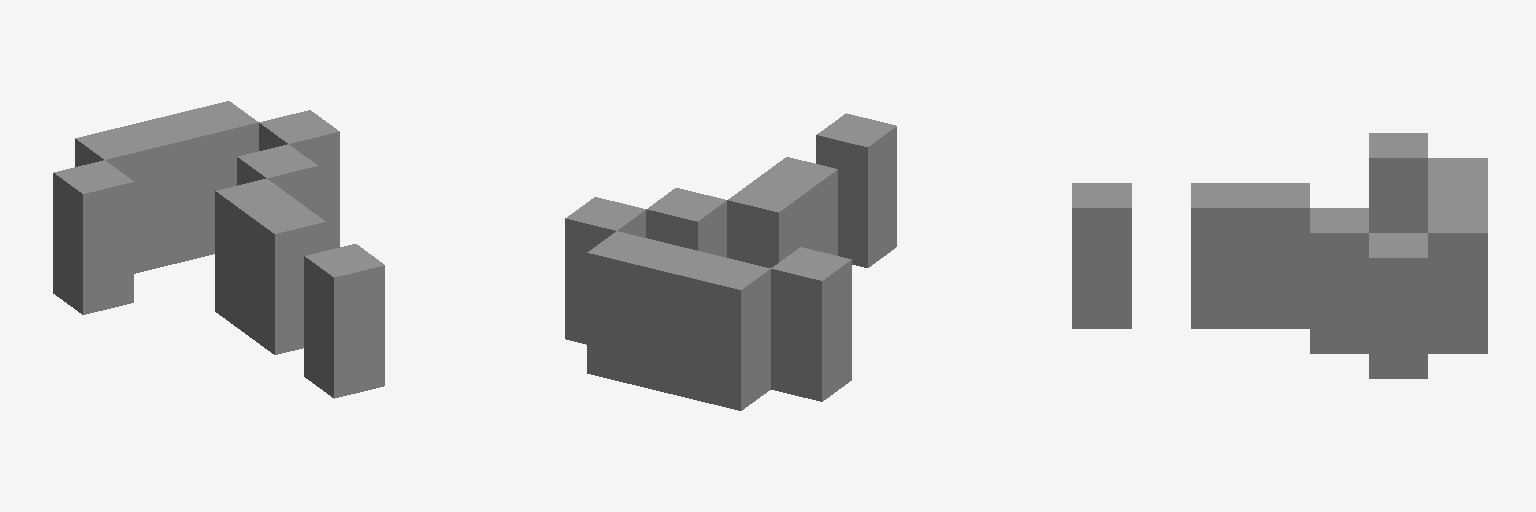
Rendered from Question_Mark.obj.
The picture shows the model from 3 angles: view 1: azimuth 30°, elevation 25°; view 2: azimuth 150°, elevation 25°; view 3: azimuth 270°, elevation 25°; orthographic projection.
Visible parts, largest first — view 1: Question_Mark_CUABC.046; view 2: Question_Mark_CUABC.046; view 3: Question_Mark_CUABC.046.
Part boxes in pixels (x1,y1,x2,y2): Question_Mark_CUABC.046: (53,101,384,398); Question_Mark_CUABC.046: (565,113,896,410); Question_Mark_CUABC.046: (1072,133,1487,378).
Size of the model in its own units: 0.5556 by 0.25 by 0.7778.